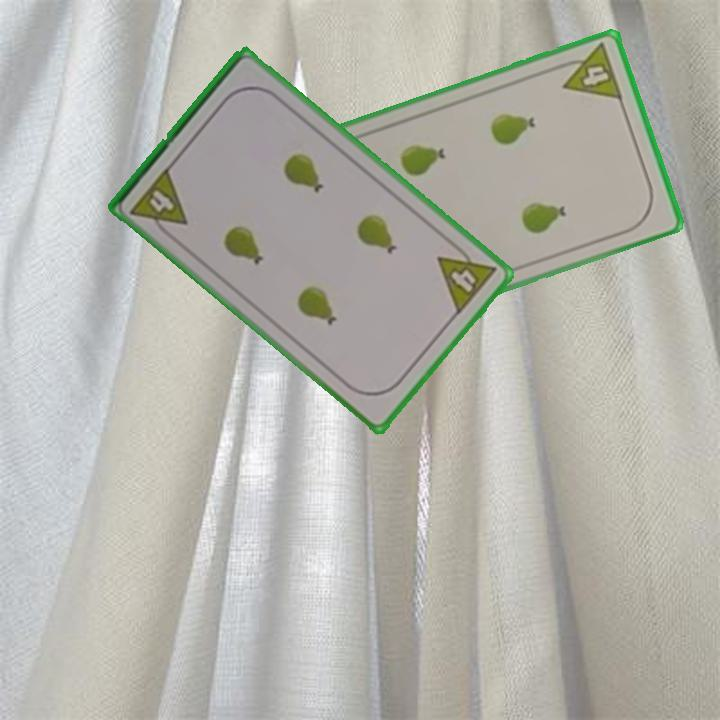4p: (434, 237, 500, 318), (127, 163, 191, 242), (553, 39, 626, 102)
